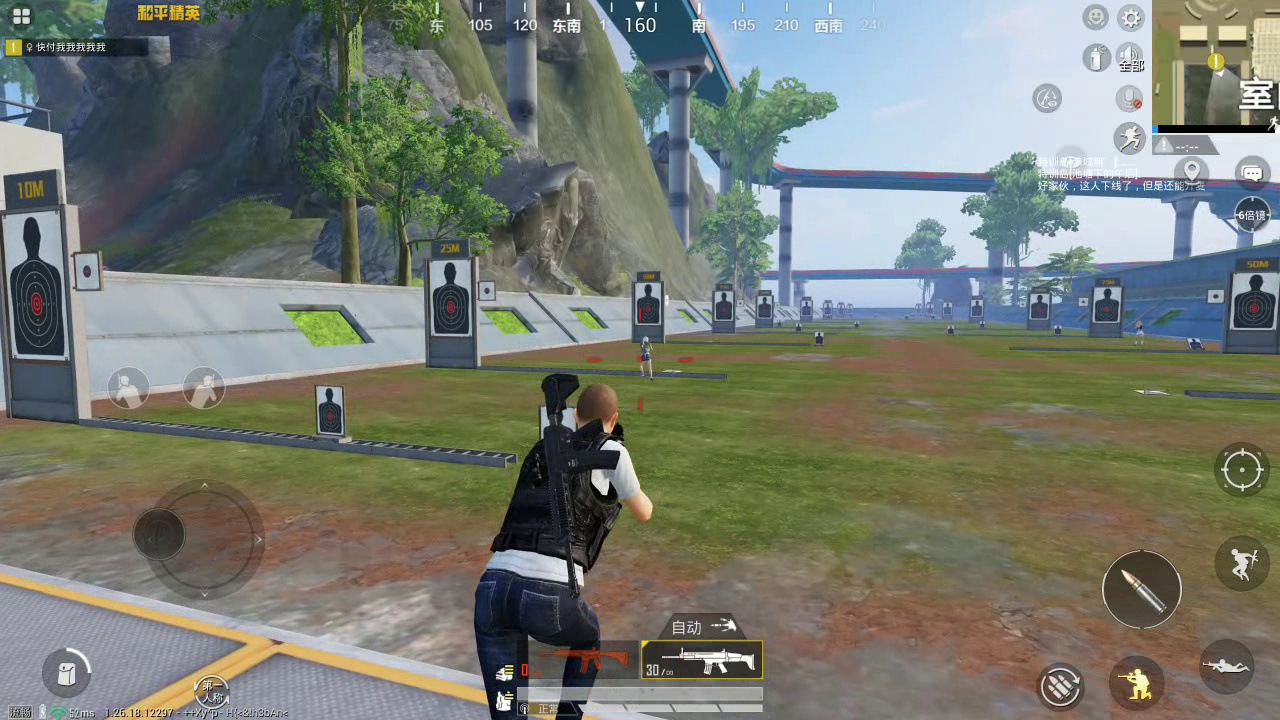enemy: (636, 334, 657, 381)
